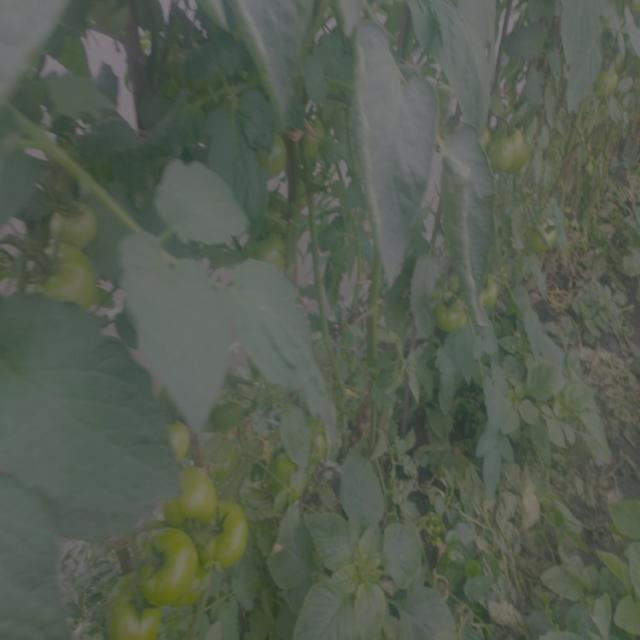tomato: (134, 524, 197, 601), (22, 253, 105, 310), (106, 582, 160, 640), (49, 192, 100, 248), (207, 507, 253, 568), (170, 462, 214, 520), (490, 121, 533, 173), (433, 288, 469, 332), (254, 228, 290, 271), (297, 114, 326, 164), (254, 132, 286, 174), (478, 276, 506, 313), (169, 419, 194, 460), (601, 66, 626, 102), (272, 452, 298, 486), (542, 219, 565, 250)
